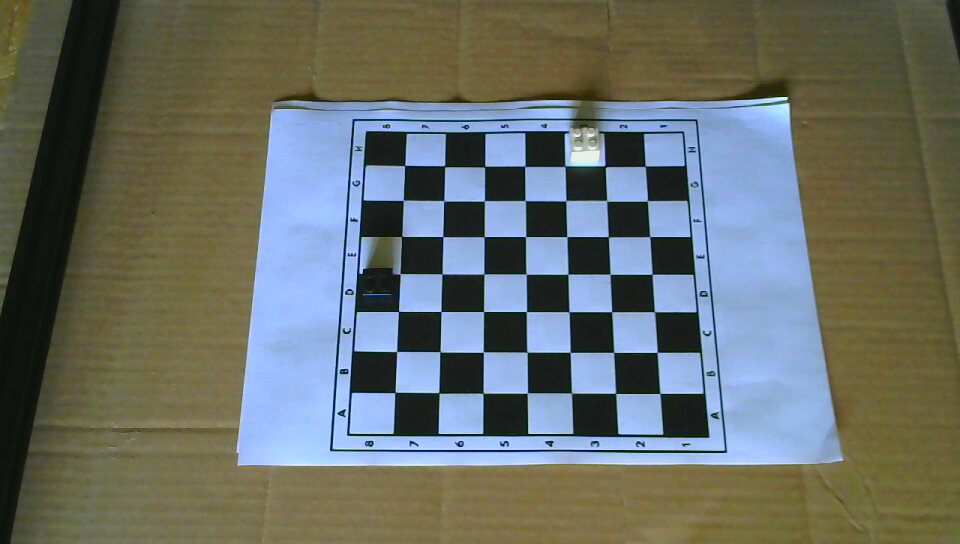bp: (361, 265, 395, 308)
wp: (569, 125, 601, 168)
